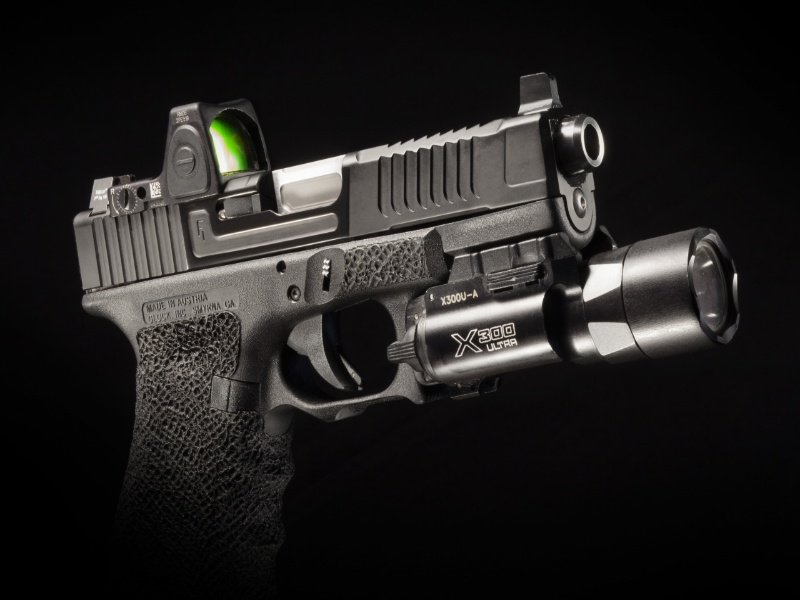gun: (42, 52, 699, 560)
